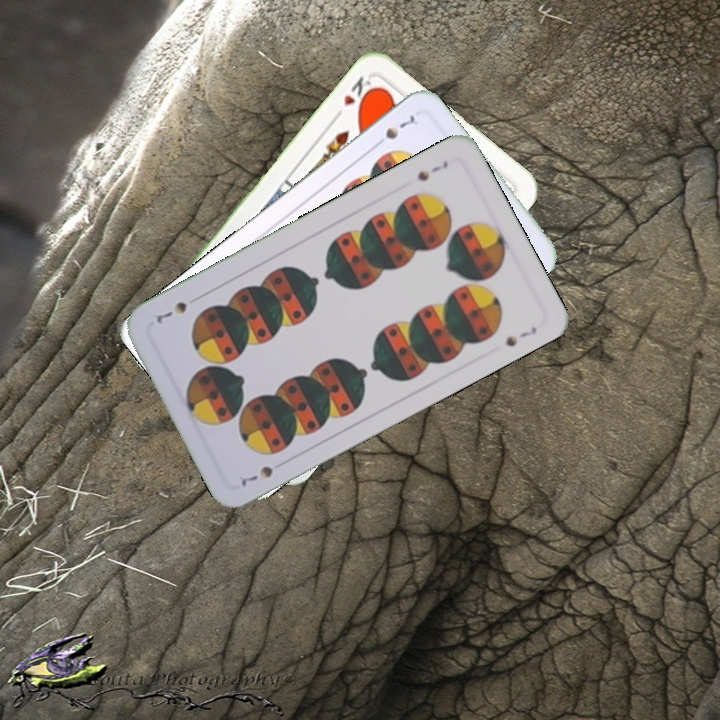HK: (330, 72, 379, 122)
S7: (370, 110, 418, 150), (235, 461, 276, 490), (413, 157, 451, 184)
